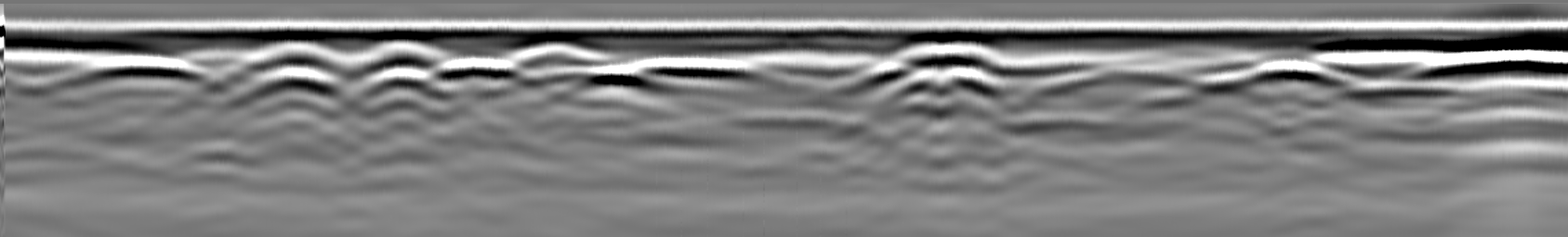pipe: (890, 32, 1010, 67), (243, 28, 347, 60), (503, 30, 605, 61), (362, 32, 446, 62)
steel: (1421, 54, 1568, 82), (1234, 56, 1349, 87), (78, 56, 212, 82), (620, 58, 759, 82)
